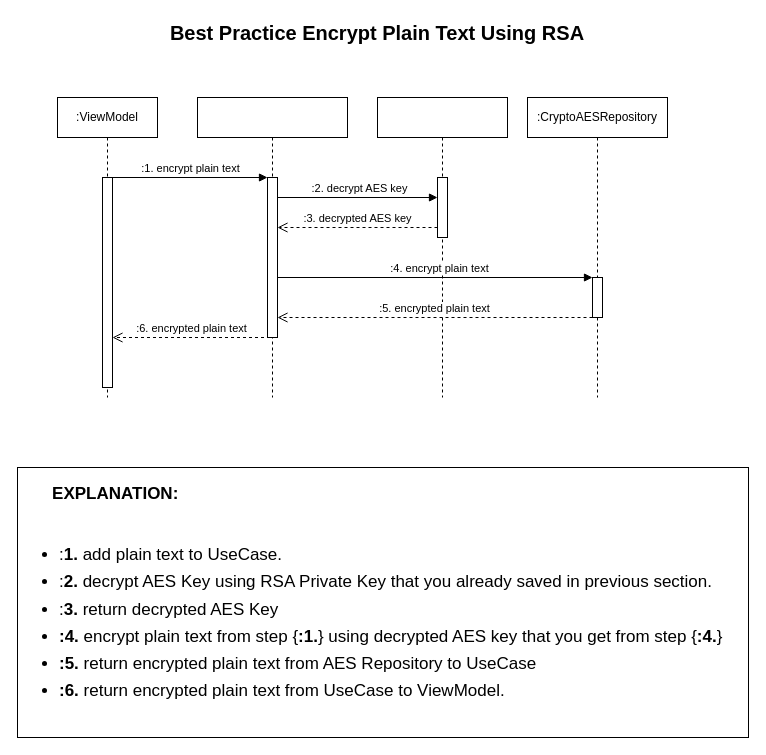
Image size: 766x755. Some labels were removed from this diagram. The box of each missing label's shape, as (x1, y1, x2, y2) in pixels:
:CryptoFeatureUseCase: (196, 96, 348, 398)
:CryptoRSARepository: (376, 96, 508, 398)
